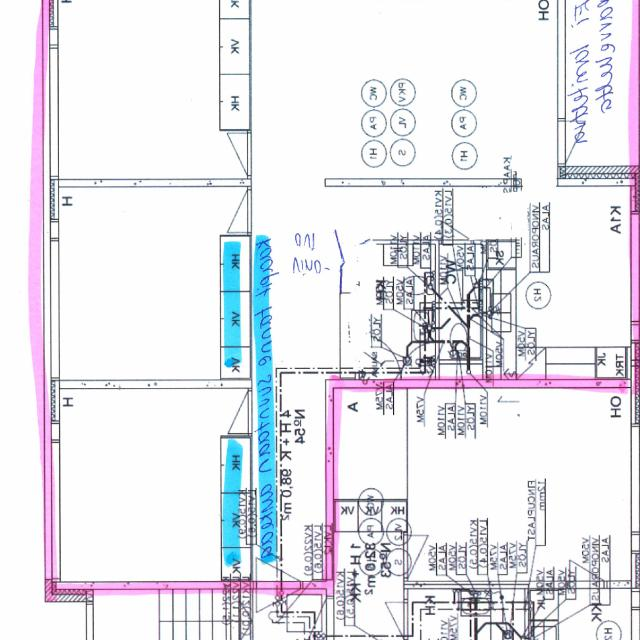door: (256, 532, 302, 598), (257, 581, 302, 640), (324, 216, 370, 266), (558, 120, 606, 164), (208, 189, 252, 233), (208, 390, 252, 433), (208, 132, 252, 175), (442, 210, 470, 244)
